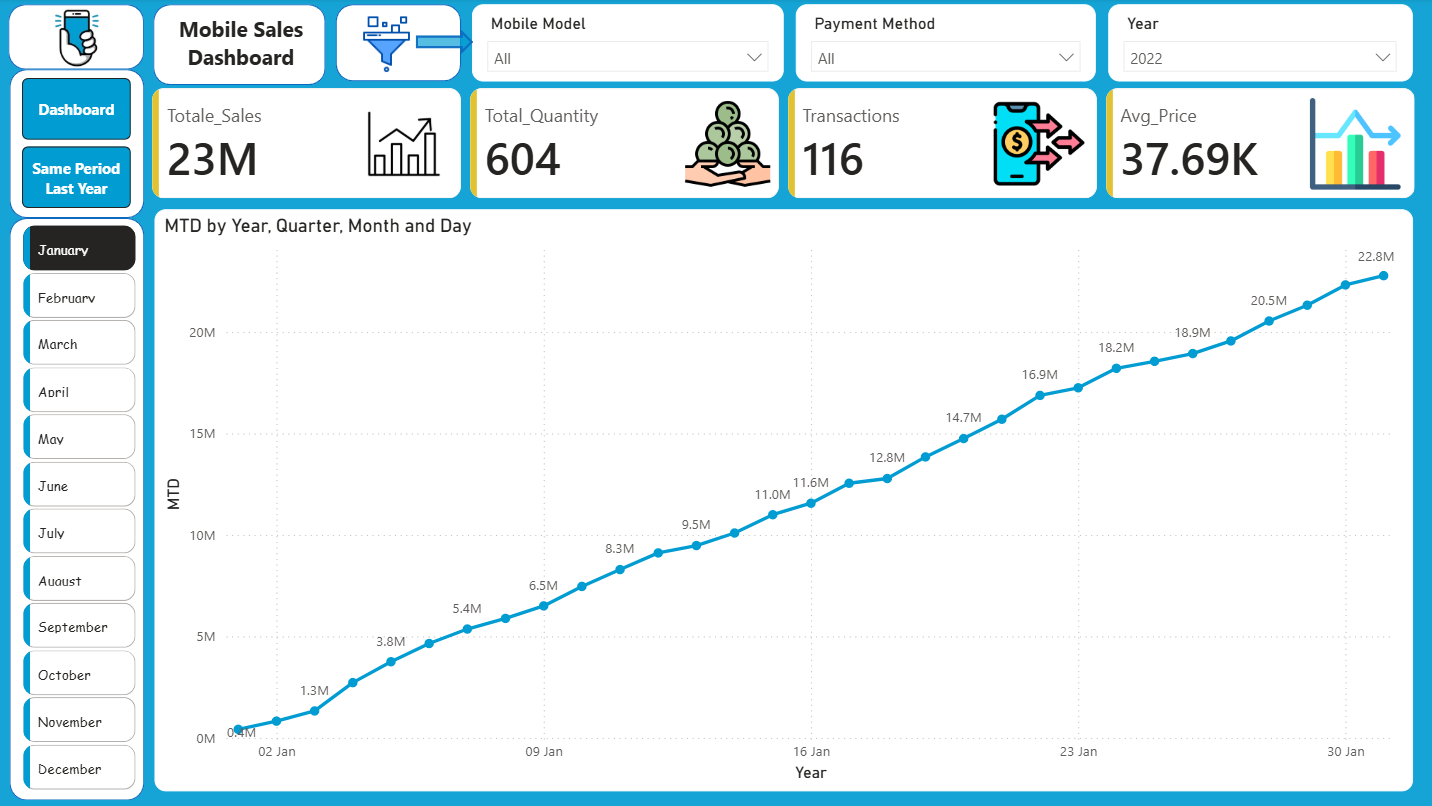

The page's visual inventory and layout, read from the dashboard file:
{"tool":"powerbi","page":{"name":"MTD Report","canvas":[1280,720],"ordinal":1},"visuals":[{"type":"shape","box":[10.5,5.8,120.9,58.1],"z":0},{"type":"image","box":[11.6,5.8,119.8,64],"z":1000},{"type":"shape","box":[11.2,63.8,120,132.5],"z":2000},{"type":"cardVisual","fields":{"Data":["Sales_data.Totale_Sales","Sales_data.Total_Quantity","Sales_data.Transactions","Sales_data.Avg_Price"]},"box":[121.2,63.8,1158.8,132.5],"z":3000},{"type":"image","box":[311.2,88.8,101.2,81.2],"z":4000},{"type":"image","box":[600,88.8,101.2,81.2],"z":5000},{"type":"image","box":[877.5,88.8,101.2,81.2],"z":6000},{"type":"image","box":[1158.8,88.8,101.2,81.2],"z":7000},{"type":"slicer","fields":{"Values":["Sales_data.Mobile Model"]},"box":[423.3,5.8,277.9,68.6],"z":8000},{"type":"slicer","fields":{"Values":["Sales_data.Payment Method"]},"box":[711.6,5.8,267.4,68.6],"z":9000},{"type":"slicer","fields":{"Values":["Custom_Calender.Date.Variation.Date Hierarchy.Year"]},"box":[989.5,5.8,270.9,68.6],"z":10000},{"type":"shape","box":[301.2,5.8,111.6,68.6],"z":11000},{"type":"image","box":[311.6,15.1,69.8,51.2],"z":12000},{"type":"shape","box":[372.5,27.5,51.2,22.5],"z":13000},{"type":"shape","box":[139.5,5.8,153.5,72.1],"z":14000},{"type":"textbox","box":[148.8,10.5,136,62.8],"z":15000},{"type":"lineChart","fields":{"Y":["Sales_data.MTD"],"Category":["Custom_Calender.Date.Variation.Date Hierarchy.Year","Custom_Calender.Date.Variation.Date Hierarchy.Quarter","Custom_Calender.Date.Variation.Date Hierarchy.Month","Custom_Calender.Date.Variation.Date Hierarchy.Day"]},"box":[139.9,188.2,1120.8,518.8],"z":16000},{"type":"shape","box":[11.2,196.2,120,518.8],"z":18000},{"type":"advancedSlicerVisual","fields":{"Values":["Custom_Calender.Date.Variation.Date Hierarchy.Month"]},"box":[23.8,202.5,100,503.8],"z":19000},{"type":"pageNavigator","box":[21.7,71.2,97.7,117],"z":19001}]}

Visuals, with their boxes in screenshot pixels (x1, y1, x2, y2), scaled from the page's 1280x720 canvas onto the 1432x806 screenshot:
shape: 12,6,147,72
image: 13,6,147,78
shape: 13,71,147,220
cardVisual - Sales_data.Totale_Sales x Sales_data.Total_Quantity: 136,71,1431,220
image: 348,99,461,190
image: 671,99,784,190
image: 982,99,1095,190
image: 1296,99,1410,190
slicer - Sales_data.Mobile Model: 474,6,784,83
slicer - Sales_data.Payment Method: 796,6,1095,83
slicer - Custom_Calender.Date.Variation.Date Hierarchy.Year: 1107,6,1410,83
shape: 337,6,462,83
image: 349,17,427,74
shape: 417,31,474,56
shape: 156,6,328,87
textbox: 166,12,319,82
lineChart - Sales_data.MTD x Custom_Calender.Date.Variation.Date Hierarchy.Year: 157,211,1410,791
shape: 13,220,147,800
advancedSlicerVisual - Custom_Calender.Date.Variation.Date Hierarchy.Month: 27,227,139,791
pageNavigator: 24,80,134,211
